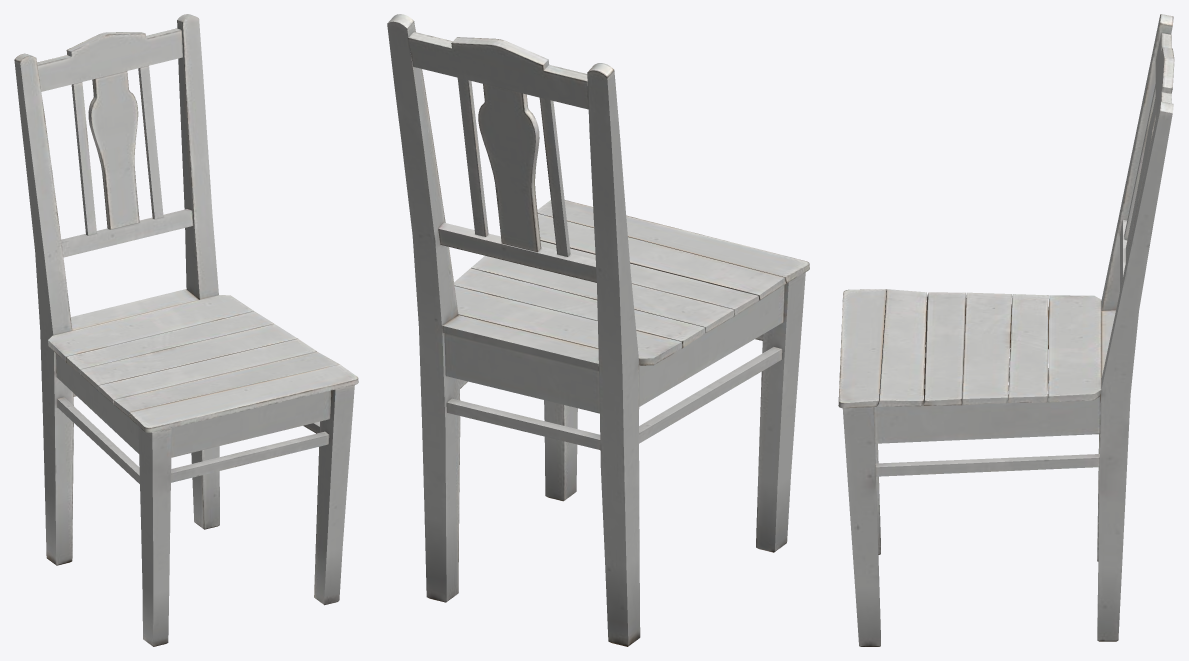
File: dining-chair.glb
3 renders of one model, left to right at view 1: azimuth 30°, elevation 25°; view 2: azimuth 150°, elevation 25°; view 3: azimuth 270°, elevation 25°, orthographic. The views are drawn at different scales.
Parts seen in each view (by area): view 1: painted_wooden_chair_01; view 2: painted_wooden_chair_01; view 3: painted_wooden_chair_01.
Boxes of the visible parts, <box> form: painted_wooden_chair_01: <box>14,14,358,646</box>; painted_wooden_chair_01: <box>387,14,809,646</box>; painted_wooden_chair_01: <box>838,14,1174,646</box>.
Size of the model in its own units: 0.4318 by 0.9565 by 0.5398.
Materials: 1 (1 with a texture image).
